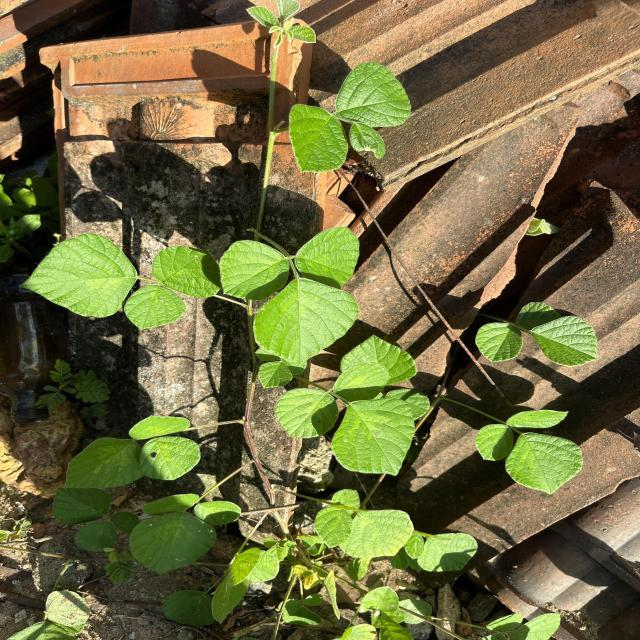Pseudarthria viscida: (216, 225, 362, 368), (17, 232, 222, 332), (274, 360, 416, 478), (62, 414, 202, 488), (474, 408, 584, 496), (128, 492, 242, 576), (474, 300, 601, 368)
